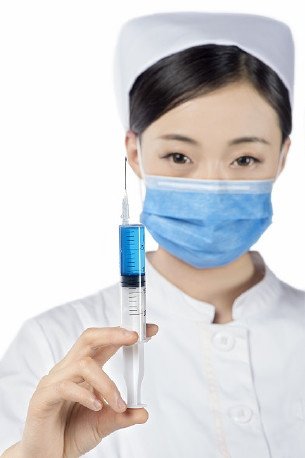Mask: (134, 124, 277, 267)
